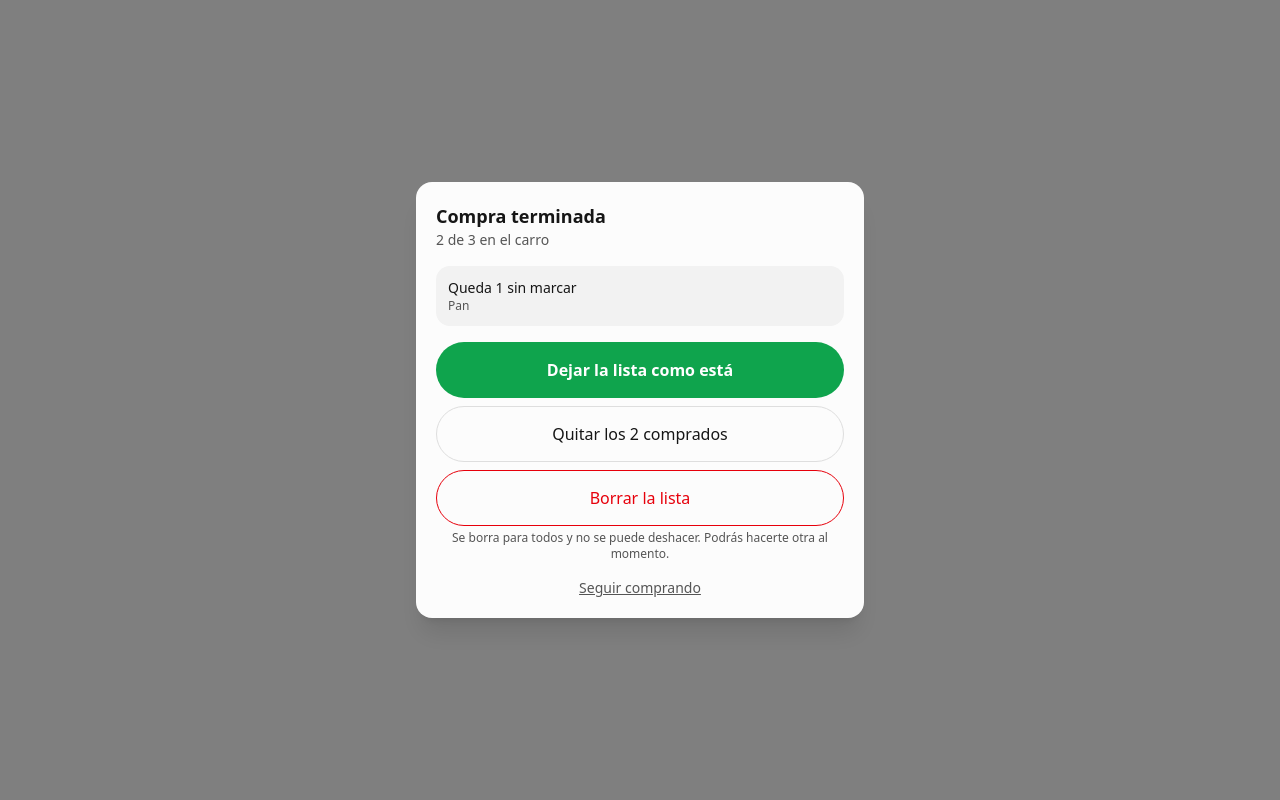
FinishSheet › si la acción falla lo dice y deja volver a intentarlo
Click the button "Borrar la lista".
click(640, 498)  # box 436,470 -> 844,526
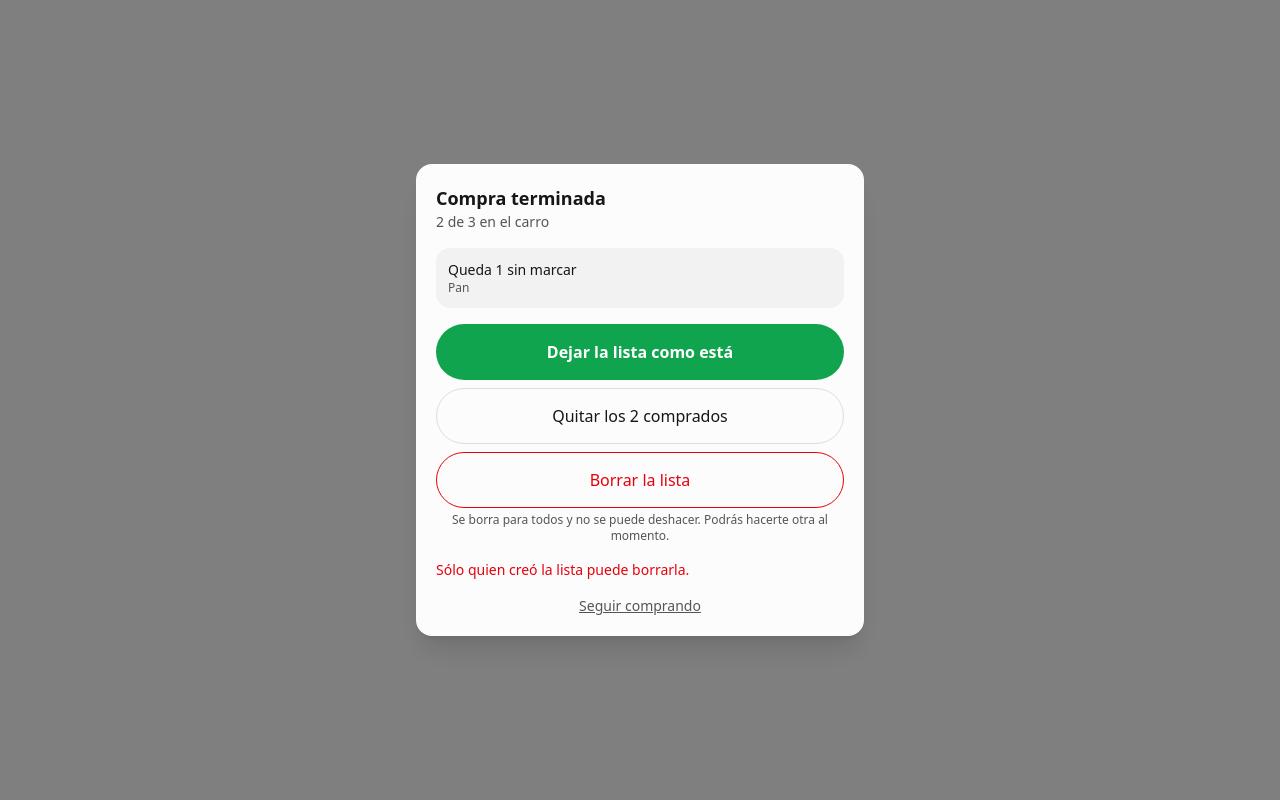
Expected: the button "Borrar la lista" is enabled, 436,452 -> 844,508
Expected: the message reads "Sólo quien creó la lista puede borrarla.", 436,560 -> 689,579
